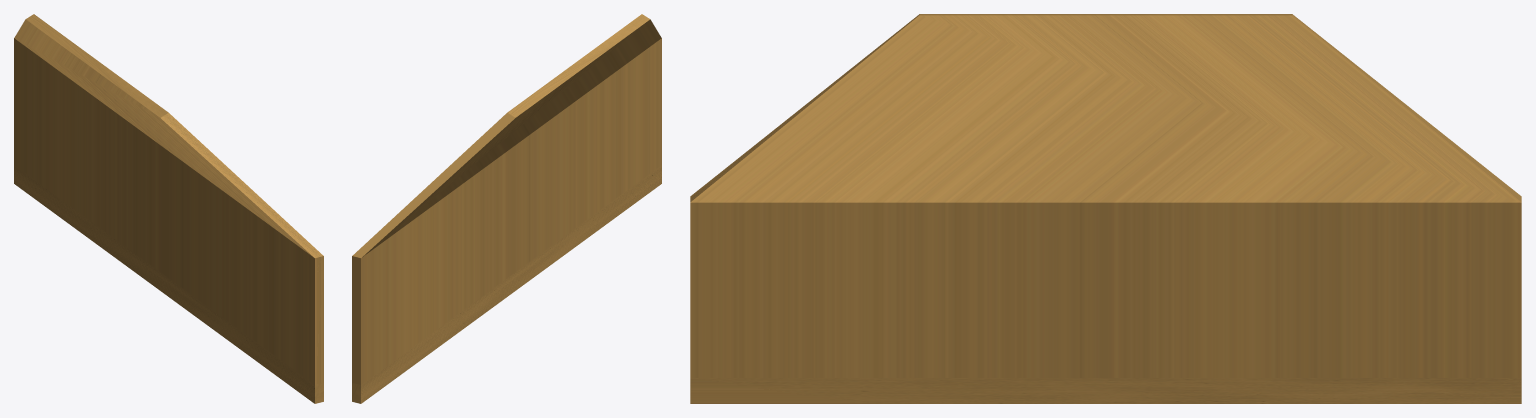
Rendered from box_back.glb.
3 renders of one model, left to right at view 1: azimuth 30°, elevation 25°; view 2: azimuth 150°, elevation 25°; view 3: azimuth 270°, elevation 25°, orthographic. The views are drawn at different scales.
Parts seen in each view (by area): view 1: Back; view 2: Back; view 3: Back.
Part boxes in pixels (<box>): Back: <box>14,14,323,403</box>; Back: <box>352,14,661,403</box>; Back: <box>690,14,1521,403</box>.
Bounding box in the file's own units: 2.24 × 6.55 × 14.5.
Materials: 1 (1 with a texture image).
